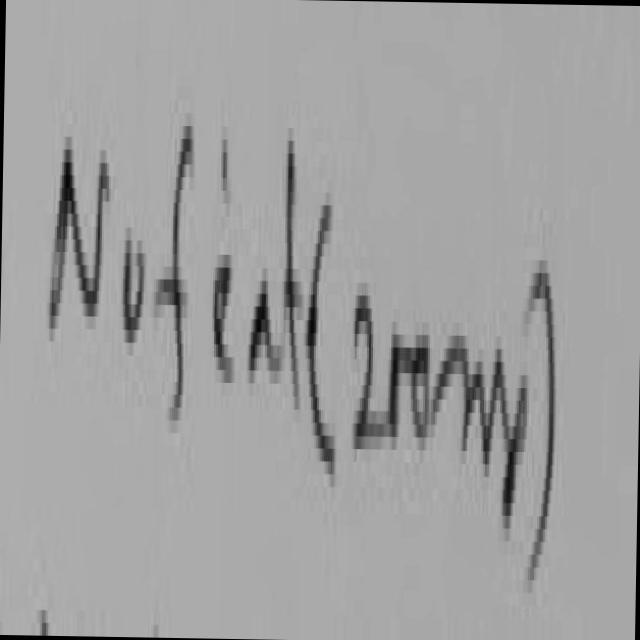0: (408, 328, 430, 449), (385, 312, 402, 452)
2: (355, 295, 390, 442)
N: (49, 149, 108, 322)
a: (245, 281, 276, 398)
f: (155, 126, 192, 413)
g: (502, 358, 526, 525)
i: (215, 254, 231, 376)
m: (433, 335, 512, 457)
o: (124, 227, 144, 336)
t: (283, 140, 301, 403)
